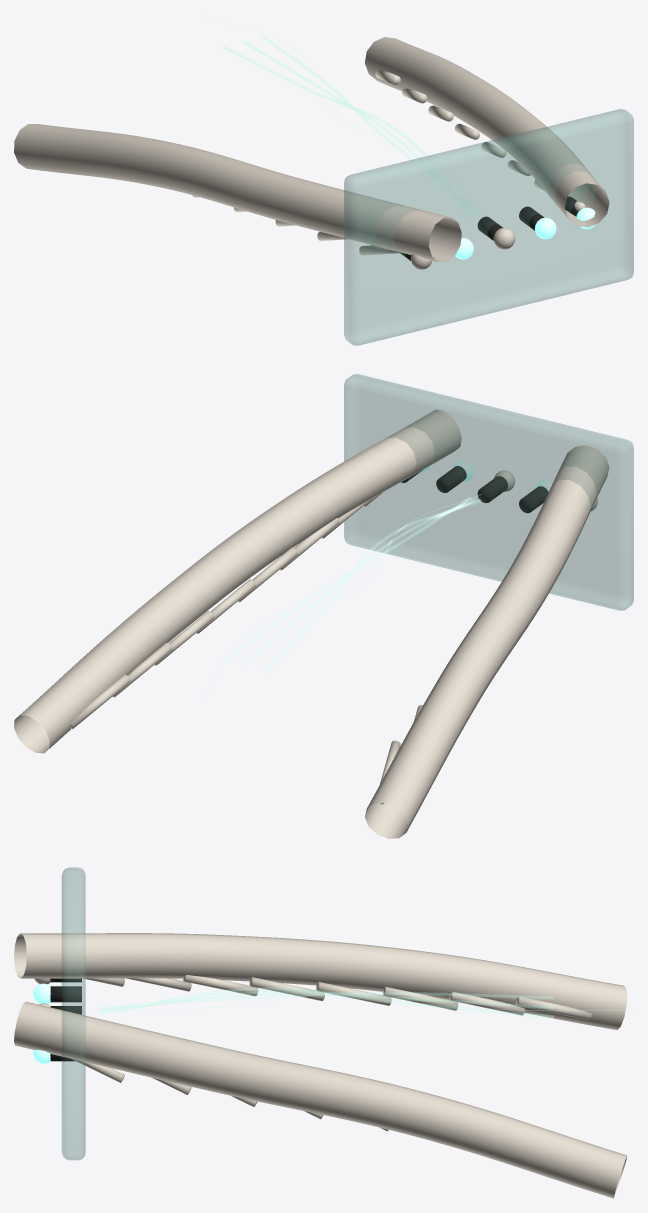
The model's file is aerosense_02_olfaction_v2.glb.
The picture shows the model from 3 angles, top to bottom: view 1: azimuth 30°, elevation 25°; view 2: azimuth 150°, elevation 25°; view 3: azimuth 270°, elevation 25°; orthographic projection. The views are drawn at different scales.
Visible parts, largest first — view 1: RECEPTOR_MEMBRANE, ANTENNA_RIDGE_L, ANTENNA_RIDGE_R, ODOR_TO_RECEPTOR_0, ODOR_TO_RECEPTOR_1, ODOR_TO_RECEPTOR_2; view 2: RECEPTOR_MEMBRANE, ANTENNA_RIDGE_R, ANTENNA_RIDGE_L, ODOR_TO_RECEPTOR_2, ODOR_TO_RECEPTOR_0, ODOR_TO_RECEPTOR_1, Sensillum_R_0; view 3: ANTENNA_RIDGE_R, ANTENNA_RIDGE_L, RECEPTOR_MEMBRANE, ODOR_TO_RECEPTOR_2, ODOR_TO_RECEPTOR_0, ODOR_TO_RECEPTOR_1, Sensillum_L_2, Sensillum_L_4, Sensillum_L_3, Sensillum_L_0, Sensillum_L_1, Sensillum_L_5 (+1 smaller).
Part boxes in pixels (box(x1,y1,x2,y2)): RECEPTOR_MEMBRANE: box(344, 109, 633, 345); ANTENNA_RIDGE_L: box(14, 124, 461, 261); ANTENNA_RIDGE_R: box(365, 37, 609, 227); ODOR_TO_RECEPTOR_0: box(222, 46, 469, 214); ODOR_TO_RECEPTOR_1: box(242, 40, 474, 213); ODOR_TO_RECEPTOR_2: box(262, 36, 479, 212); RECEPTOR_MEMBRANE: box(344, 374, 633, 610); ANTENNA_RIDGE_R: box(14, 409, 461, 753); ANTENNA_RIDGE_L: box(365, 445, 609, 838); ODOR_TO_RECEPTOR_2: box(223, 497, 470, 661); ODOR_TO_RECEPTOR_0: box(263, 499, 480, 671); ODOR_TO_RECEPTOR_1: box(242, 498, 475, 666); Sensillum_R_0: box(70, 674, 130, 729); ANTENNA_RIDGE_R: box(14, 1001, 627, 1198); ANTENNA_RIDGE_L: box(14, 933, 627, 1030); RECEPTOR_MEMBRANE: box(62, 867, 85, 1159); ODOR_TO_RECEPTOR_2: box(100, 987, 553, 1018); ODOR_TO_RECEPTOR_0: box(100, 992, 553, 1009); ODOR_TO_RECEPTOR_1: box(101, 991, 553, 1011); Sensillum_L_2: box(382, 986, 458, 1010); Sensillum_L_4: box(249, 977, 324, 1000); Sensillum_L_3: box(316, 982, 391, 1005); Sensillum_L_0: box(516, 996, 591, 1020); Sensillum_L_1: box(449, 991, 524, 1015); Sensillum_L_5: box(182, 975, 258, 996).
Bounding box in the file's own units: 6.67 × 2.98 × 9.3.
